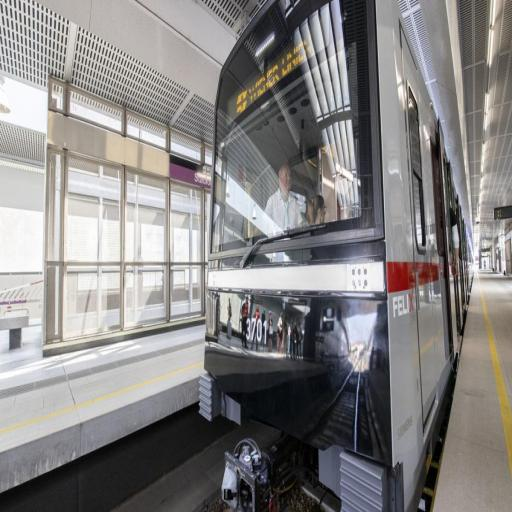X-Wagen: (199, 1, 472, 512)
